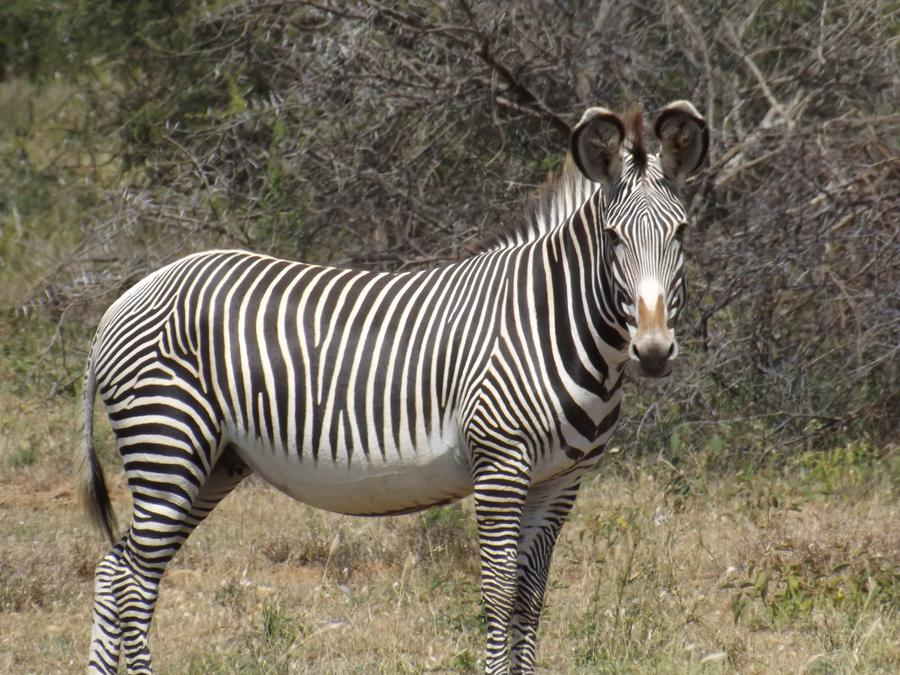zebra_grevys: (106, 241, 571, 467)
